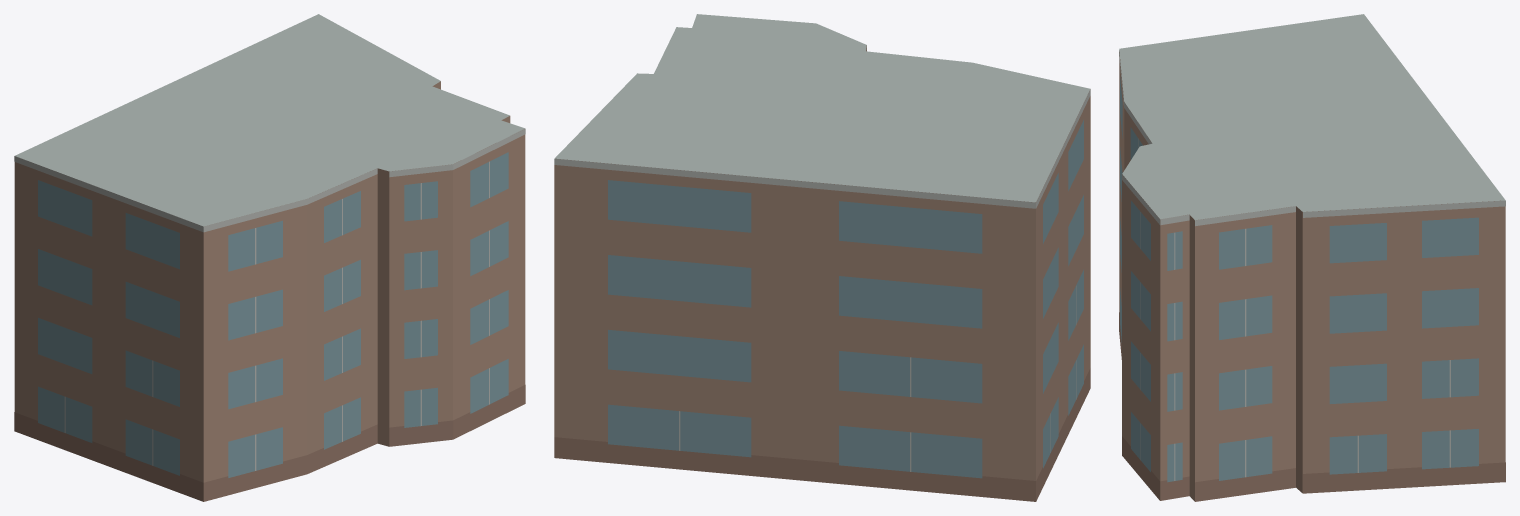
File: survey-upis-32524699.glb
3 renders of one model, left to right at view 1: azimuth 30°, elevation 25°; view 2: azimuth 150°, elevation 25°; view 3: azimuth 270°, elevation 25°, orthographic. The views are drawn at different scales.
Visible parts, largest first — view 1: survey-upis-32524699.tmp; view 2: survey-upis-32524699.tmp; view 3: survey-upis-32524699.tmp.
Part boxes in pixels (x1,y1,x2,y2): survey-upis-32524699.tmp: (14, 14, 525, 501); survey-upis-32524699.tmp: (554, 14, 1090, 501); survey-upis-32524699.tmp: (1119, 14, 1505, 501).
Bounding box in the file's own units: 18.07 × 11.5 × 14.32.
